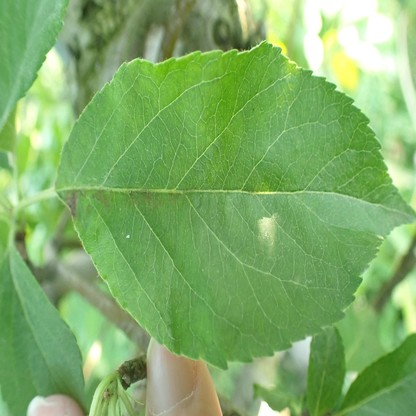scab: (128, 188, 159, 208), (64, 189, 79, 222), (93, 189, 112, 210), (167, 189, 182, 203), (85, 203, 93, 218)
